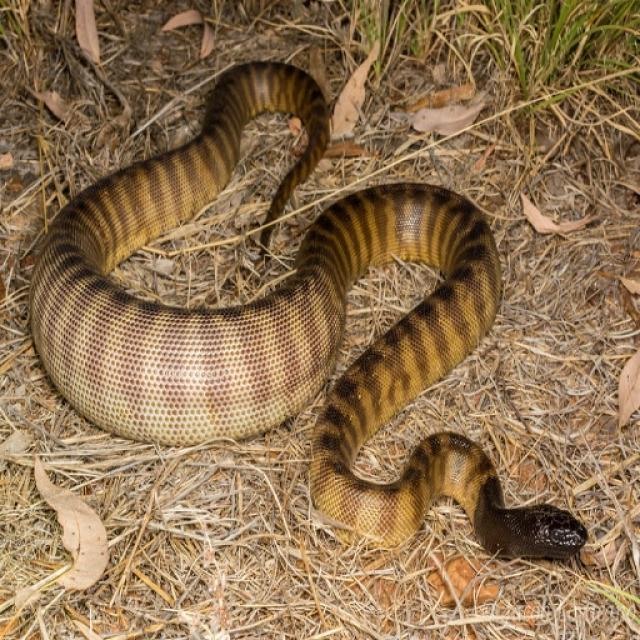snake: (32, 58, 600, 574)
